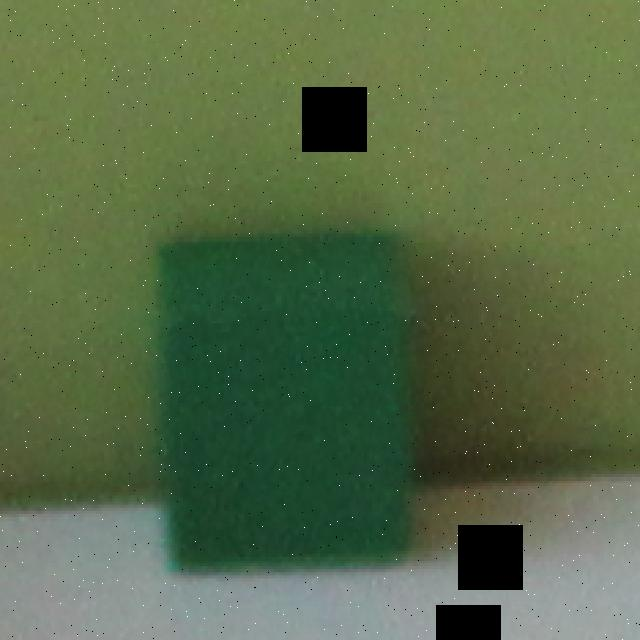green cube: (161, 225, 406, 579)
